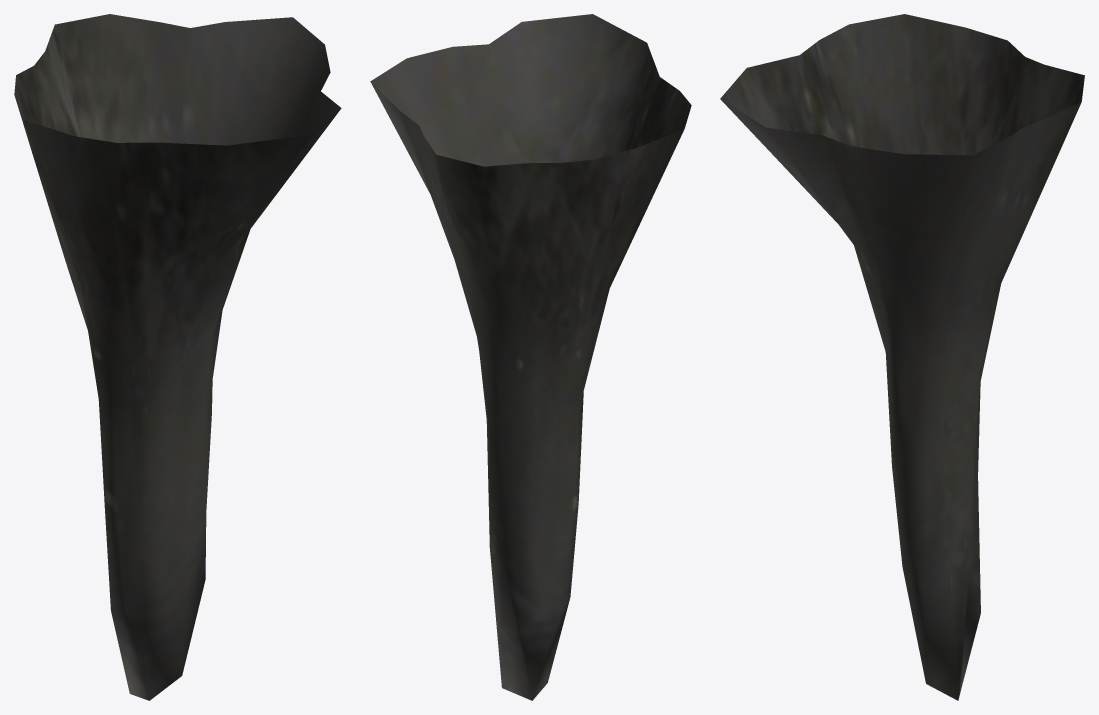
File: rock_forest_stalgamite_small.DAE
The picture shows the model from 3 angles, left to right: view 1: azimuth 30°, elevation 25°; view 2: azimuth 150°, elevation 25°; view 3: azimuth 270°, elevation 25°; orthographic projection. The views are drawn at different scales.
Visible parts, largest first — view 1: Object008; view 2: Object008; view 3: Object008.
Boxes of the visible parts, x1=… form: Object008: x1=14, y1=14, x2=341, y2=700; Object008: x1=370, y1=14, x2=691, y2=700; Object008: x1=720, y1=14, x2=1084, y2=700.
Size of the model in its own units: 0.2577 by 0.5148 by 0.2755.
